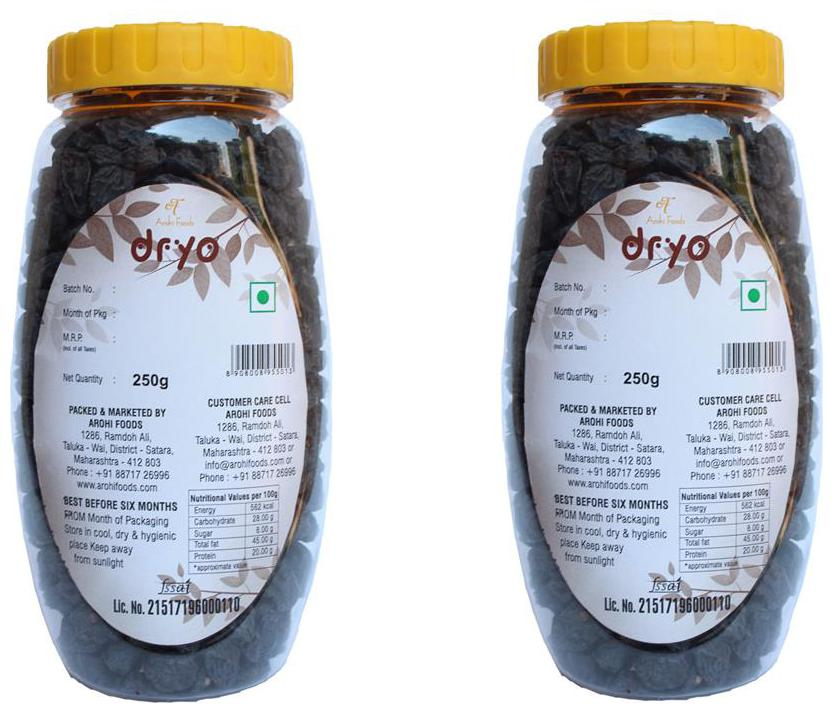fssai: (156, 578, 191, 594), (648, 576, 682, 592)
